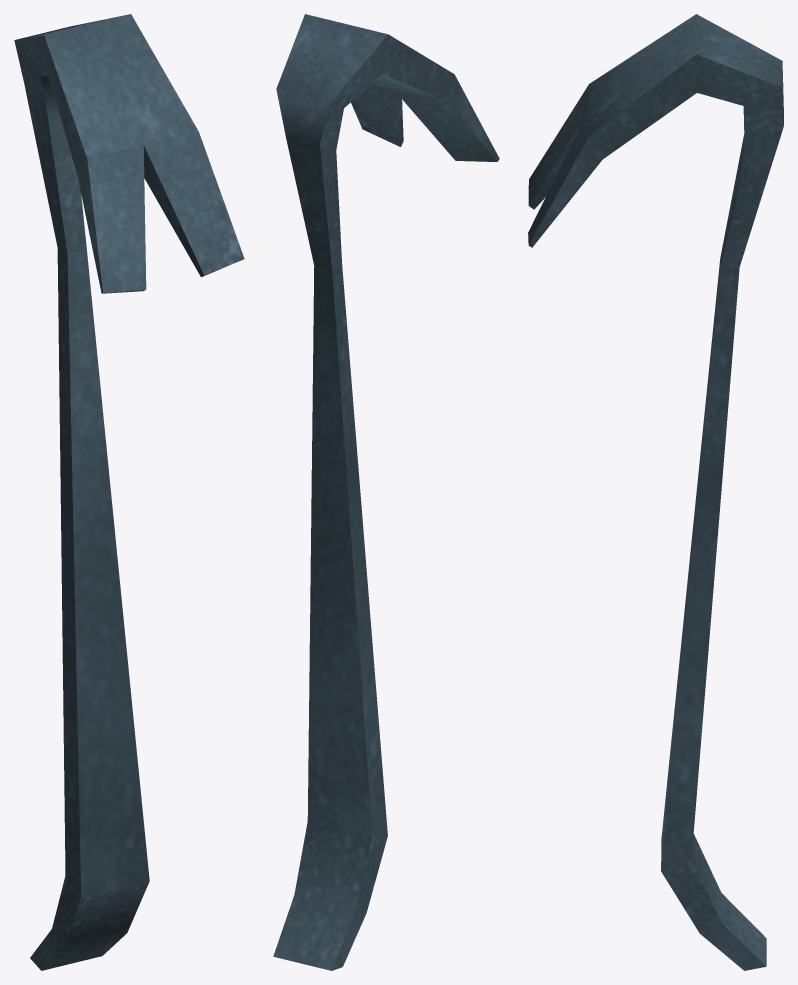
Rendered from Hello Neighbor Mobile New Crowbar.glb.
3 views of the same model, side by side, from view 1: azimuth 30°, elevation 25°; view 2: azimuth 150°, elevation 25°; view 3: azimuth 270°, elevation 25° (orthographic). The views are drawn at different scales.
Visible parts, largest first — view 1: crowbar; view 2: crowbar; view 3: crowbar.
Boxes of the visible parts, x1=… form: crowbar: x1=14, y1=14, x2=244, y2=970; crowbar: x1=273, y1=14, x2=499, y2=970; crowbar: x1=528, y1=14, x2=783, y2=970.
Bounding box in the file's own units: 0.1276 × 0.8277 × 0.209.
Materials: 1 (1 with a texture image).
